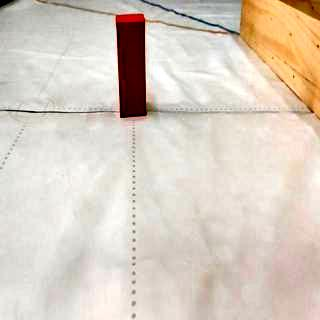redbox: (115, 14, 146, 118)
